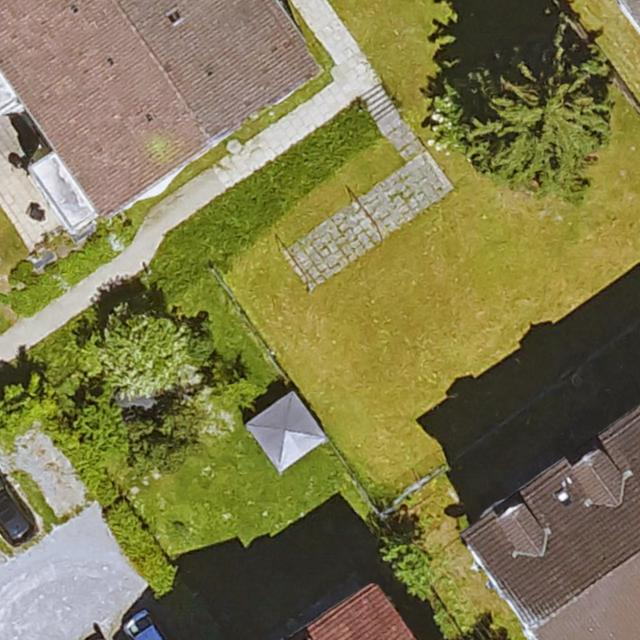tree: (473, 46, 610, 194), (94, 304, 189, 386), (376, 532, 439, 593), (69, 396, 130, 455), (0, 373, 46, 431)
